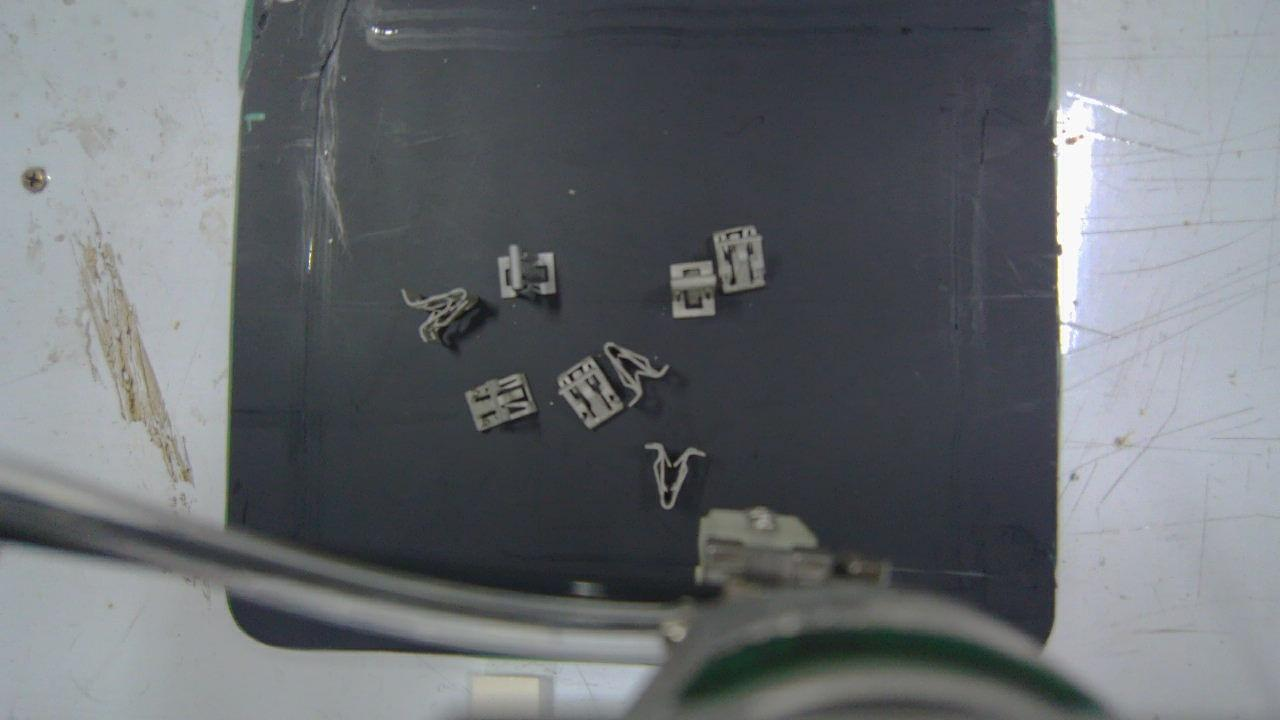ng: (557, 357, 623, 429), (463, 375, 536, 433), (604, 343, 670, 406), (402, 289, 479, 342), (647, 443, 707, 508), (715, 226, 765, 292)
pass: (499, 246, 554, 297), (672, 262, 715, 316)
